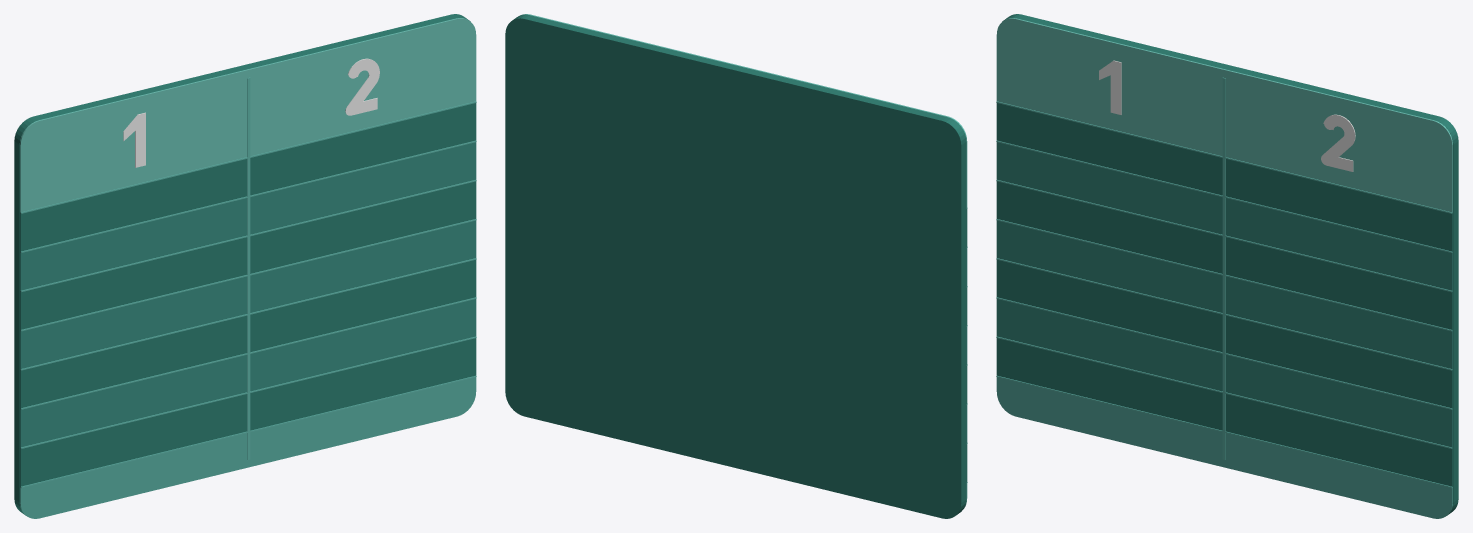
Rendered from Information board_1and2.glb.
The picture shows the model from 3 angles, left to right: view 1: azimuth 30°, elevation 25°; view 2: azimuth 150°, elevation 25°; view 3: azimuth 330°, elevation 25°; orthographic projection.
Visible parts, largest first — view 1: LibSign_Header, LibSign_Band_4, LibSign_Band_0, LibSign_Band_3, LibSign_Band_1, LibSign_Band_6, LibSign_Band_2, LibSign_Band_5, LibSign_Footer, LibSign_Plate, LibSign_Divider, LibSign_Number_2 (+9 smaller); view 2: LibSign_Plate, LibSign_Header; view 3: LibSign_Header, LibSign_Band_0, LibSign_Band_4, LibSign_Band_3, LibSign_Band_1, LibSign_Band_6, LibSign_Band_2, LibSign_Band_5, LibSign_Footer, LibSign_Plate, LibSign_Divider, LibSign_Number_2 (+9 smaller).
Part boxes in pixels (x1=…): LibSign_Header: x1=20, y1=18, x2=476, y2=212; LibSign_Band_4: x1=20, y1=260, x2=476, y2=408; LibSign_Band_0: x1=20, y1=103, x2=476, y2=251; LibSign_Band_3: x1=20, y1=220, x2=476, y2=369; LibSign_Band_1: x1=20, y1=142, x2=476, y2=290; LibSign_Band_6: x1=20, y1=338, x2=476, y2=486; LibSign_Band_2: x1=20, y1=181, x2=476, y2=329; LibSign_Band_5: x1=20, y1=299, x2=476, y2=447; LibSign_Footer: x1=20, y1=377, x2=476, y2=518; LibSign_Plate: x1=14, y1=14, x2=470, y2=515; LibSign_Divider: x1=247, y1=77, x2=250, y2=460; LibSign_Number_2: x1=345, y1=58, x2=379, y2=115; LibSign_Plate: x1=505, y1=14, x2=966, y2=518; LibSign_Header: x1=520, y1=14, x2=967, y2=207; LibSign_Header: x1=996, y1=18, x2=1452, y2=212; LibSign_Band_0: x1=996, y1=103, x2=1452, y2=251; LibSign_Band_4: x1=996, y1=260, x2=1452, y2=408; LibSign_Band_3: x1=996, y1=220, x2=1452, y2=369; LibSign_Band_1: x1=996, y1=142, x2=1452, y2=290; LibSign_Band_6: x1=996, y1=338, x2=1452, y2=486; LibSign_Band_2: x1=996, y1=181, x2=1452, y2=329; LibSign_Band_5: x1=996, y1=299, x2=1452, y2=447; LibSign_Footer: x1=996, y1=377, x2=1452, y2=518; LibSign_Plate: x1=1002, y1=14, x2=1458, y2=515; LibSign_Divider: x1=1222, y1=77, x2=1225, y2=460; LibSign_Number_2: x1=1321, y1=114, x2=1355, y2=171.
Bounding box in the file's own units: 0.6 × 0.5 × 0.015.
